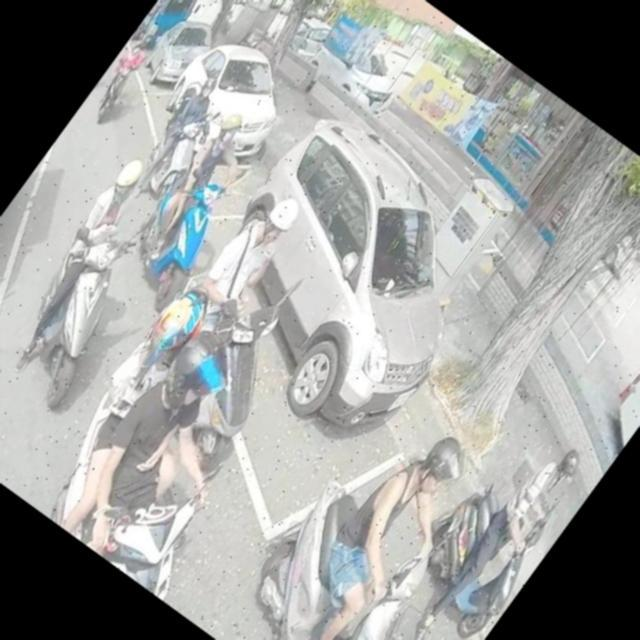person: (24, 280, 271, 564), (50, 326, 285, 588), (258, 408, 501, 640), (0, 147, 175, 379), (407, 427, 594, 640), (130, 101, 272, 272), (172, 182, 311, 346), (121, 66, 228, 195), (90, 36, 156, 114)
